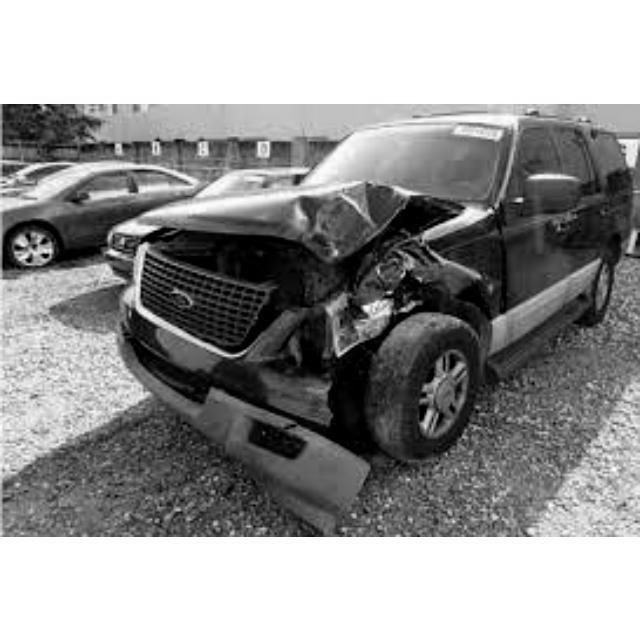bonnet-dent: (150, 179, 424, 256)
fender-dent: (371, 216, 499, 330)
front-bumper-dent: (125, 324, 307, 417)
